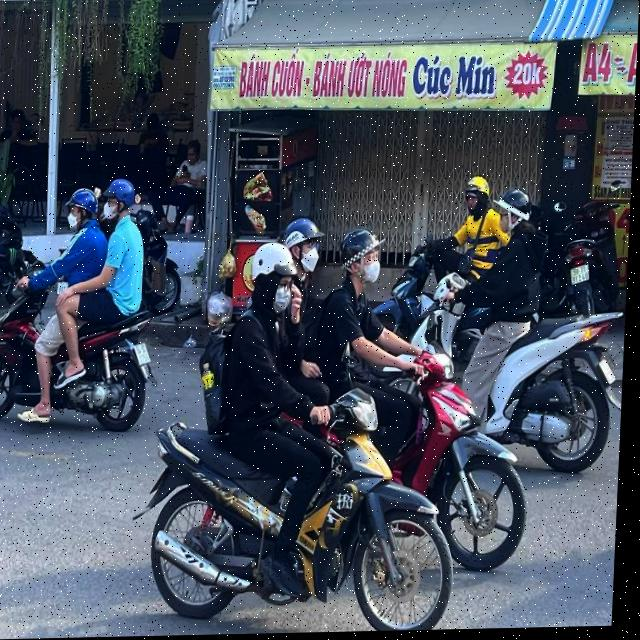motorcycle: (126, 380, 463, 637), (406, 333, 539, 575), (0, 250, 164, 434), (458, 307, 620, 490), (551, 195, 631, 317)
plate: (515, 404, 551, 439), (563, 257, 596, 289)
